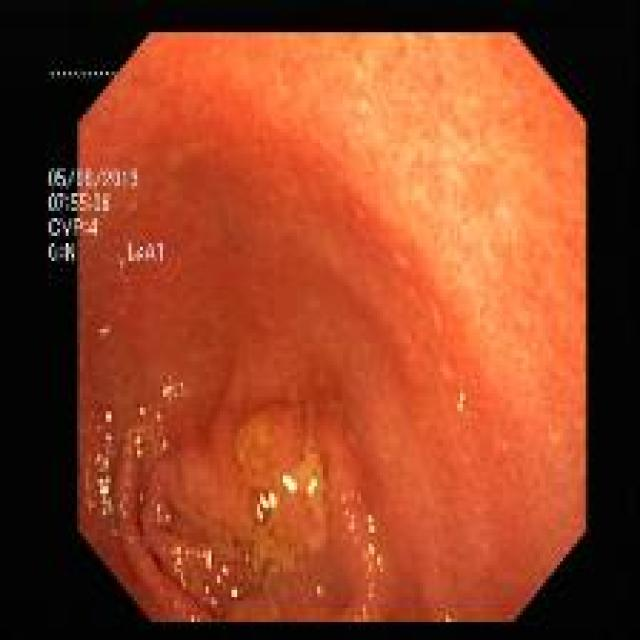ulcerative-colitis: (270, 33, 585, 470)
